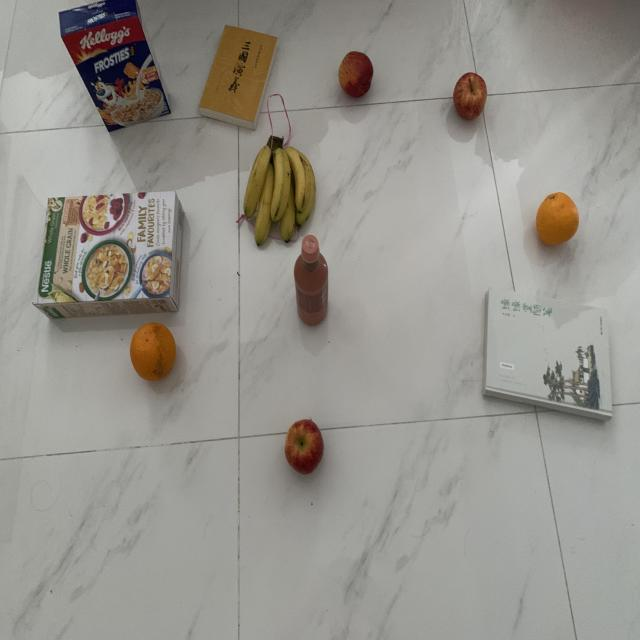Apple: (278, 418, 328, 478), (451, 71, 490, 125), (336, 48, 376, 99)
Banana: (242, 135, 318, 249)
Book: (482, 288, 618, 427), (197, 23, 279, 132)
Cerealbox: (32, 187, 185, 322), (56, 0, 174, 137)
Orange: (127, 322, 180, 383), (534, 192, 584, 253)
